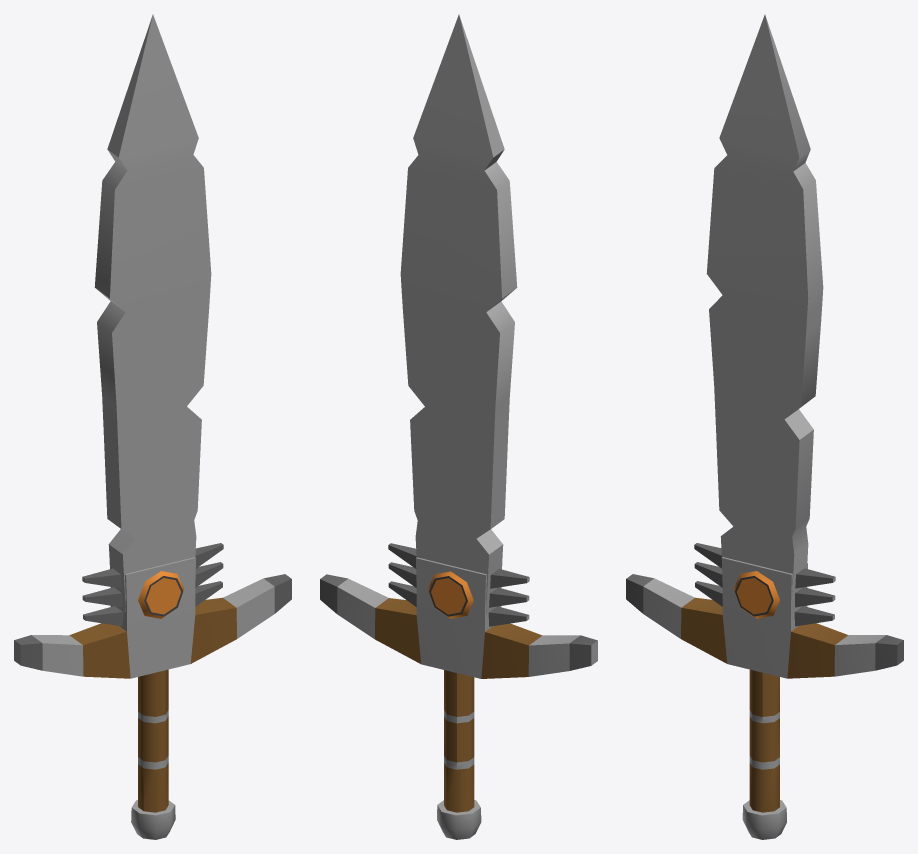
Rendered from Sowrd_7.fbx.
3 views of the same model, side by side, from view 1: azimuth 30°, elevation 25°; view 2: azimuth 150°, elevation 25°; view 3: azimuth 330°, elevation 25° (orthographic).
Visible parts, largest first — view 1: Sowrd_7; view 2: Sowrd_7; view 3: Sowrd_7.
Part boxes in pixels (x1,y1,x2,y2): Sowrd_7: (14, 14, 291, 839); Sowrd_7: (320, 14, 597, 839); Sowrd_7: (626, 14, 903, 839).
Bounding box in the file's own units: 0.1499 × 0.4326 × 0.0209.
